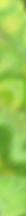Tomato mold leaf: (0, 25, 26, 191)
